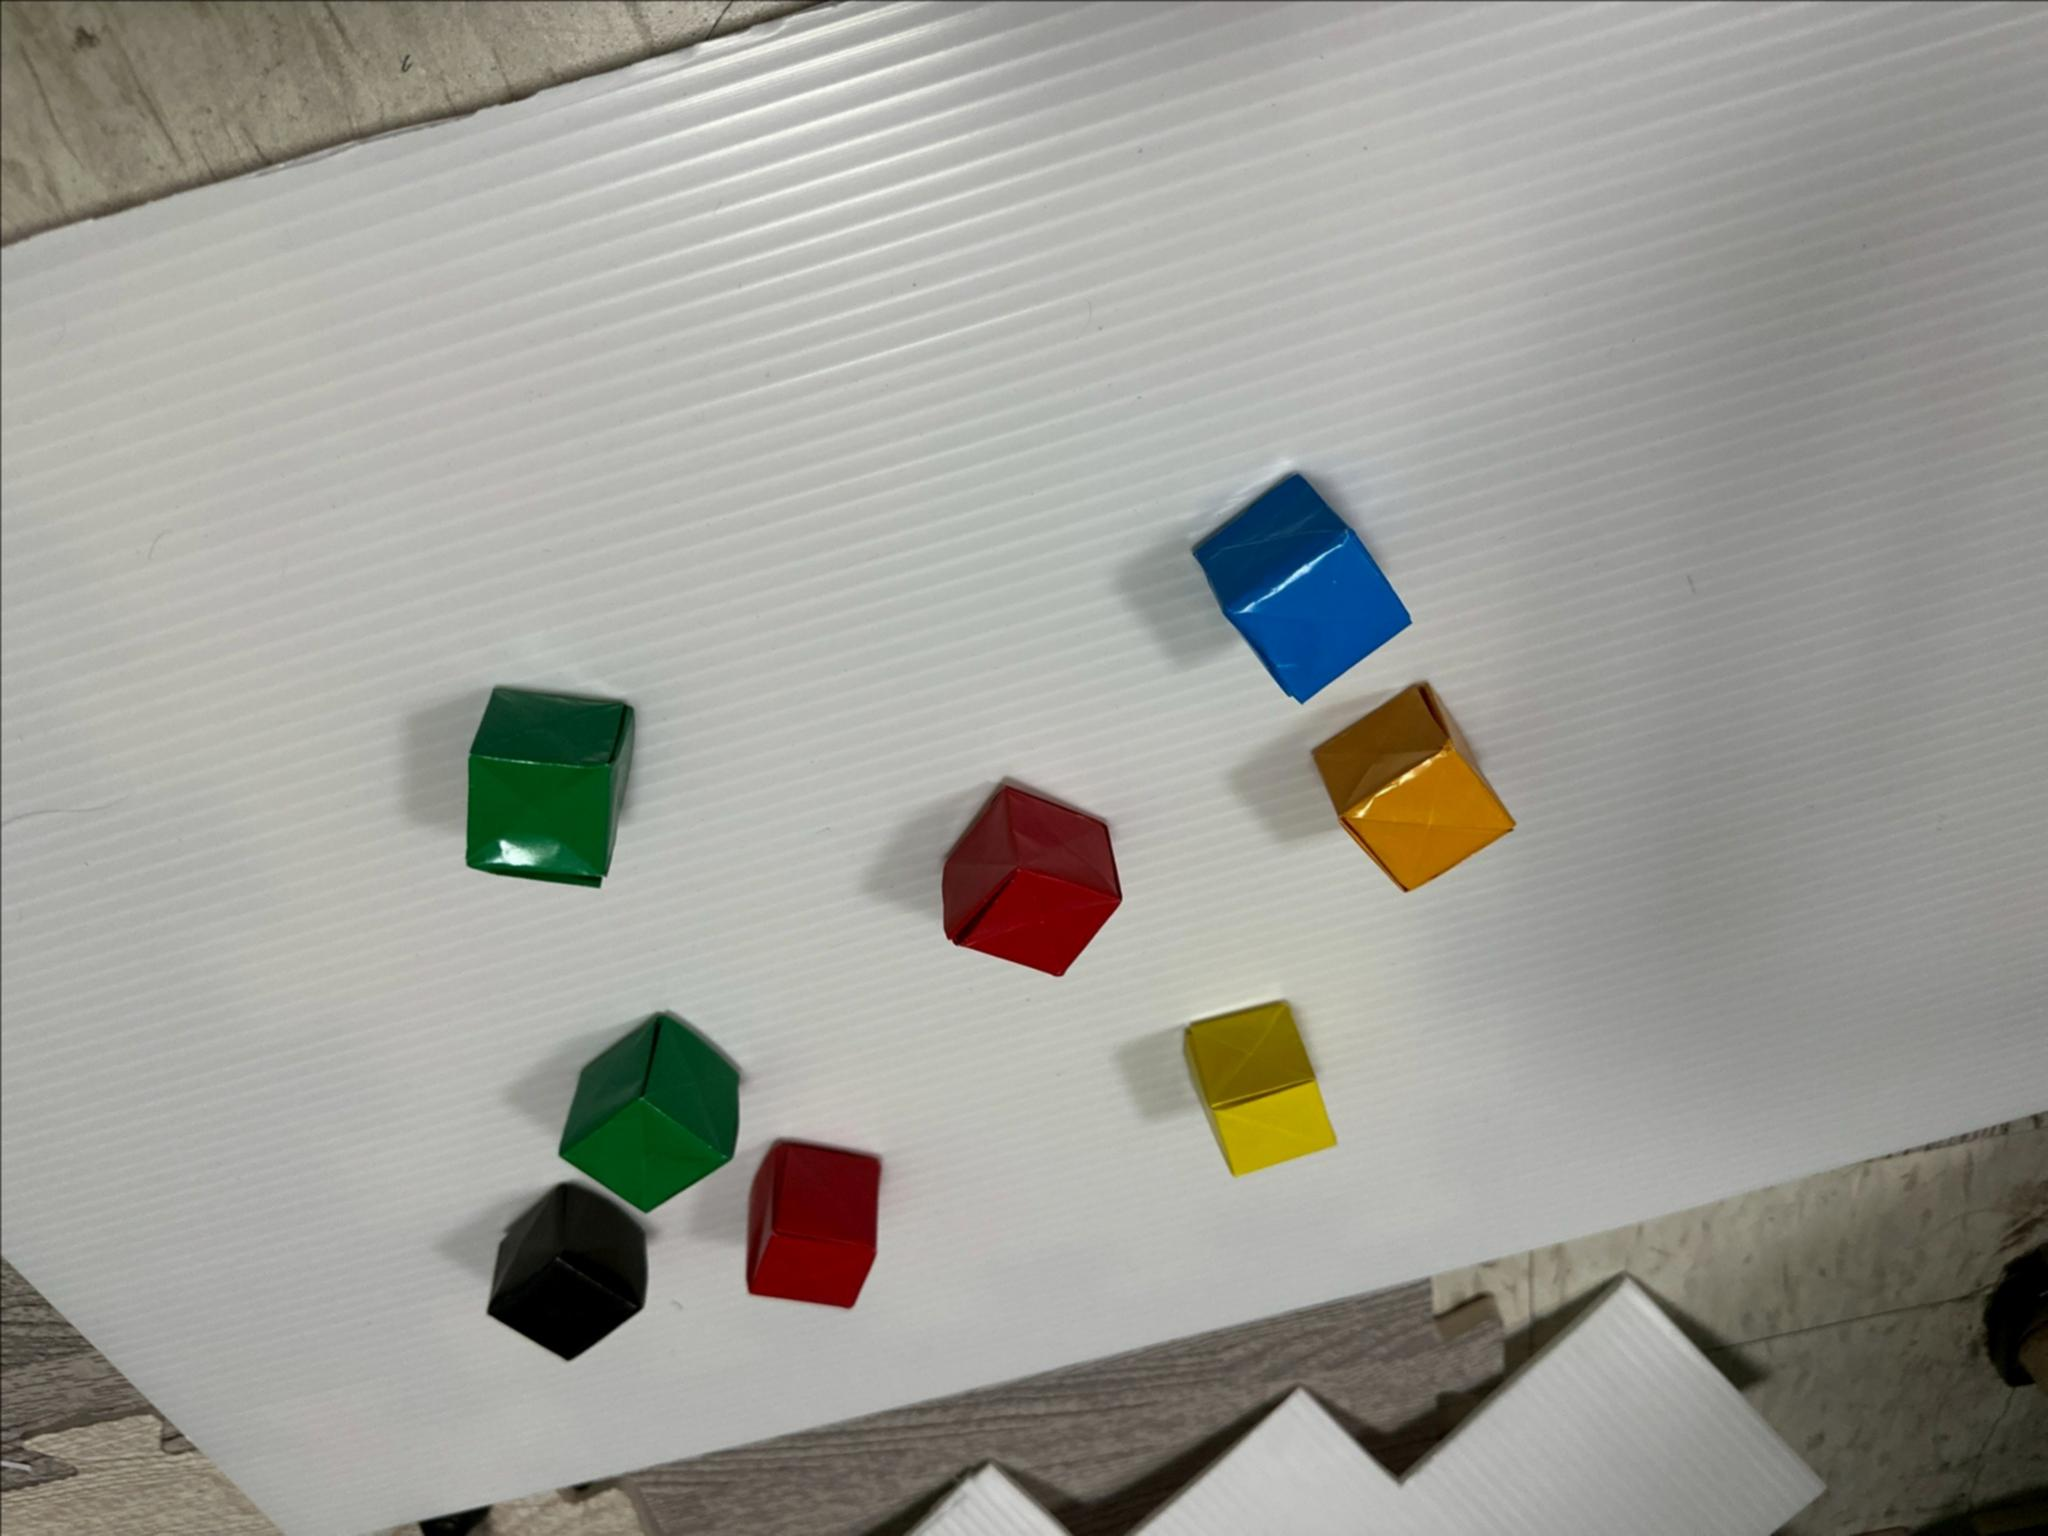base: (1193, 474, 1411, 702), (1314, 684, 1513, 891), (560, 1015, 737, 1212), (468, 687, 634, 886), (943, 787, 1119, 975), (487, 1184, 645, 1359), (1184, 1002, 1334, 1175), (747, 1142, 879, 1307)
